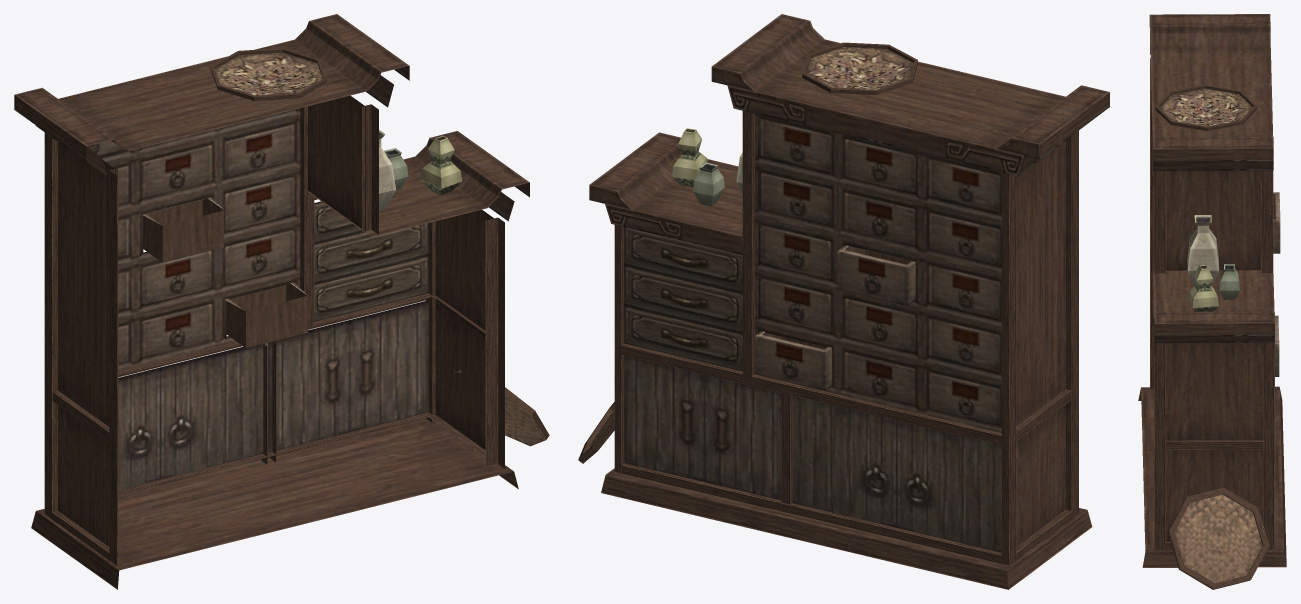
3 renders of one model, left to right at view 1: azimuth 30°, elevation 25°; view 2: azimuth 150°, elevation 25°; view 3: azimuth 270°, elevation 25°, orthographic. The views are drawn at different scales.
Visible parts, largest first — view 1: qingmo_obj_271 [10484561]; view 2: qingmo_obj_271 [10484561]; view 3: qingmo_obj_271 [10484561].
Boxes of the visible parts, <box> form: qingmo_obj_271 [10484561]: <box>14,14,549,589</box>; qingmo_obj_271 [10484561]: <box>578,14,1109,589</box>; qingmo_obj_271 [10484561]: <box>1138,14,1286,589</box>.
Size of the model in its own units: 22.41 by 6.99 by 19.57.
Materials: 1 (1 with a texture image).
